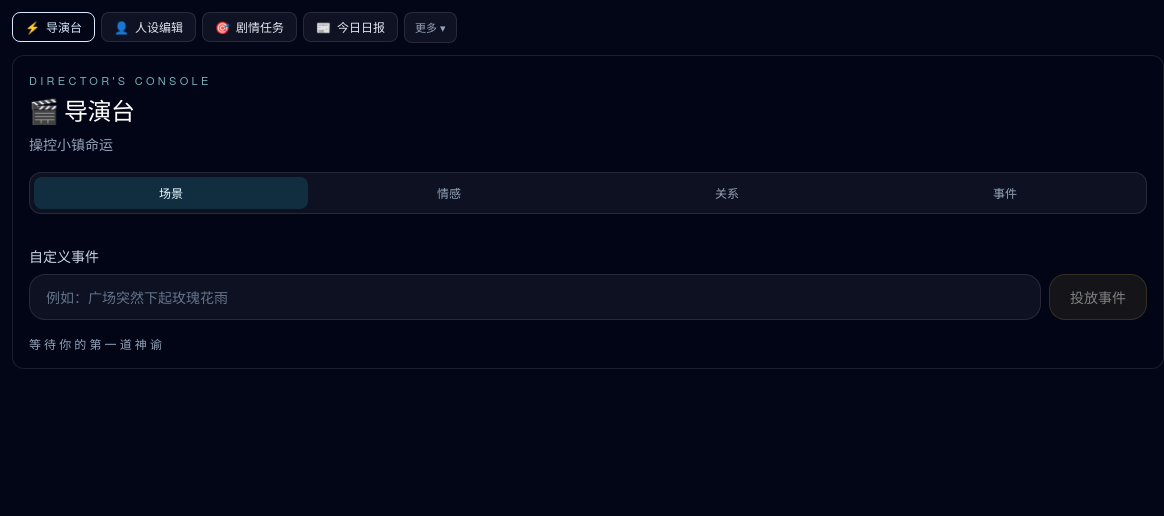
Test: Toolbar › switches to DialogueHistory when 对话记录 is clicked
The image size is (1164, 516).
Click the button with test id "more-toggle": (430, 27) [404,12,456,42]
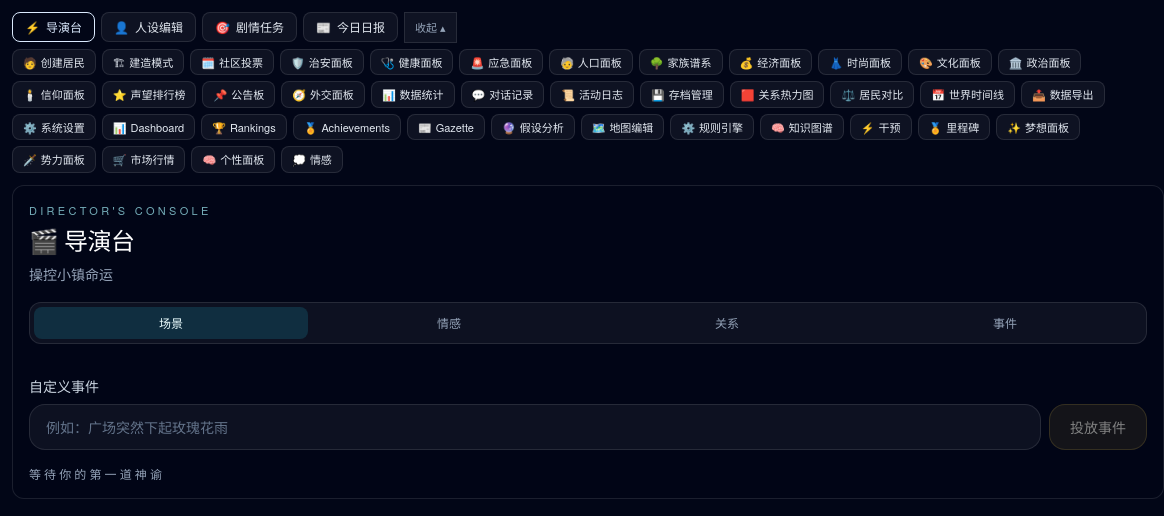
Click the button "💬对话记录": (502, 94) [461,81,544,108]
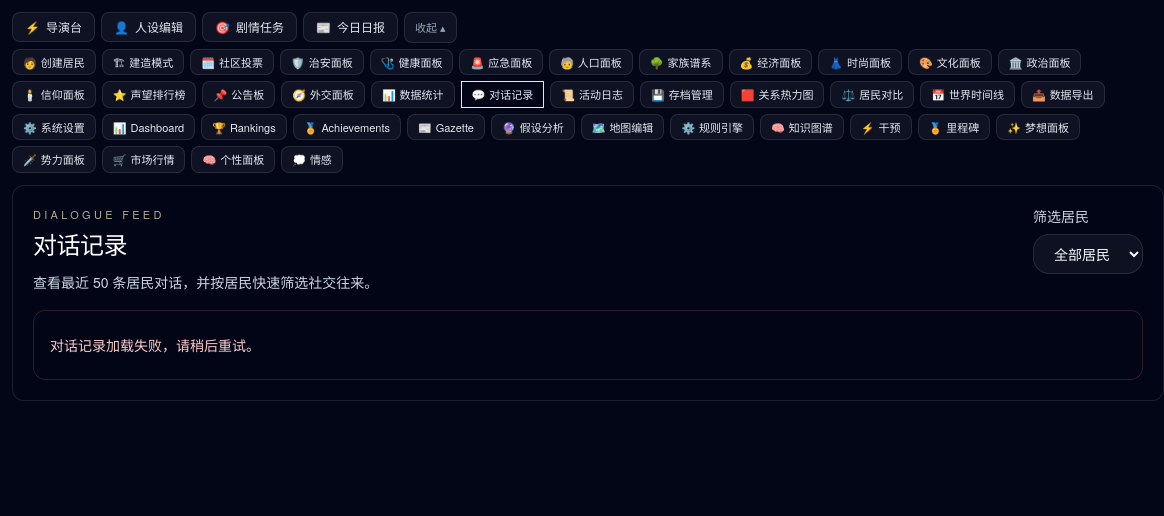
Now the element with test id "dialogue-history-panel" is shown, box [12,184,1163,401]
